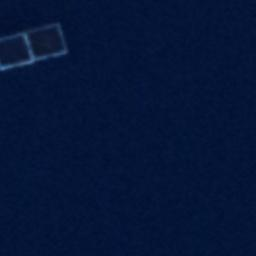square_solid: (20, 19, 73, 65), (1, 28, 36, 74)
